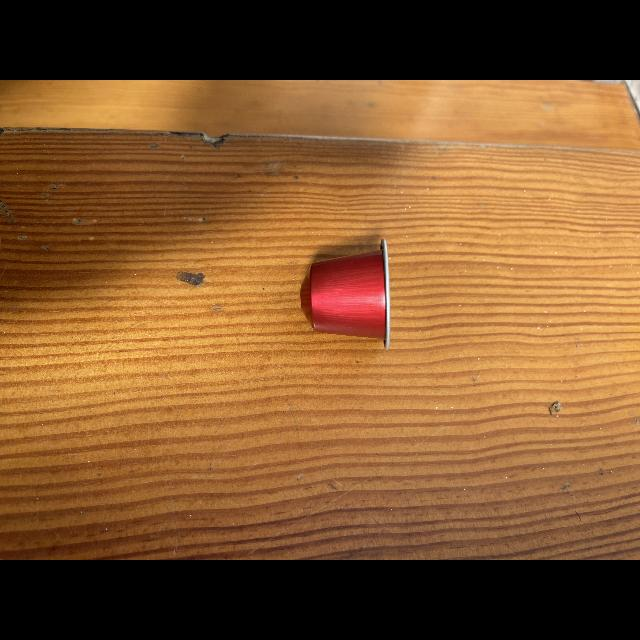intact_capsule: (294, 234, 408, 356)
